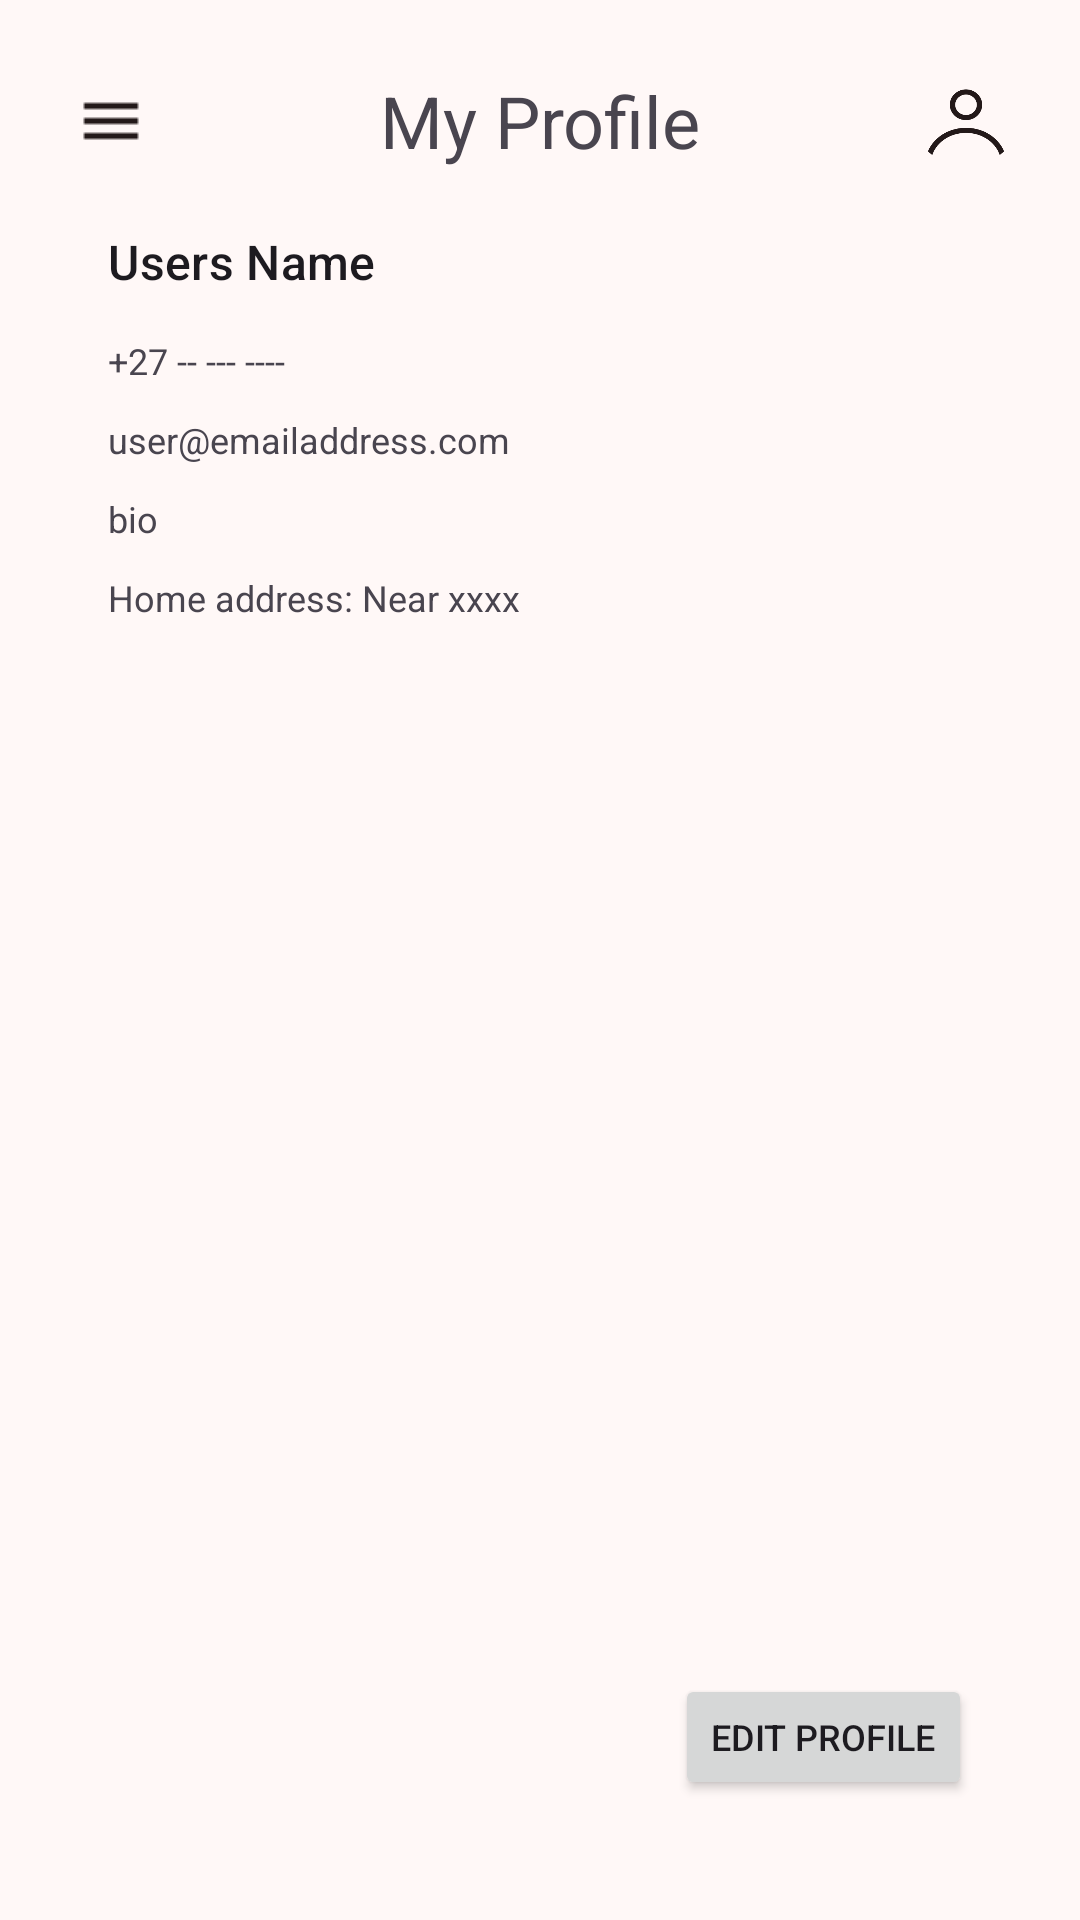

Icons on this 1080×1920 Android screen, each with its box as (x1, y1, x2, y2):
menu: (83, 102, 139, 140)
